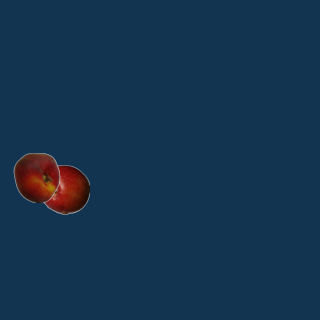Apple Braeburn: (39, 164, 89, 214)
Nectarine Flat: (11, 152, 61, 202)
